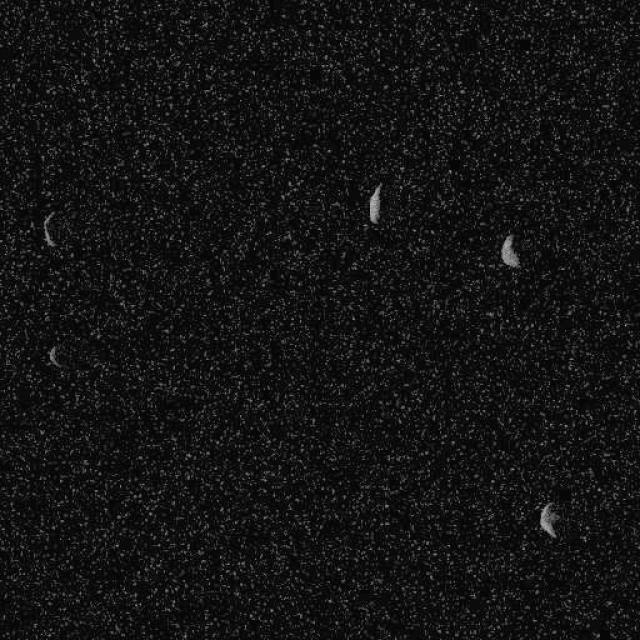D2: (538, 501, 560, 539), (499, 232, 520, 268), (368, 181, 382, 224), (42, 210, 56, 248), (46, 344, 62, 368)
